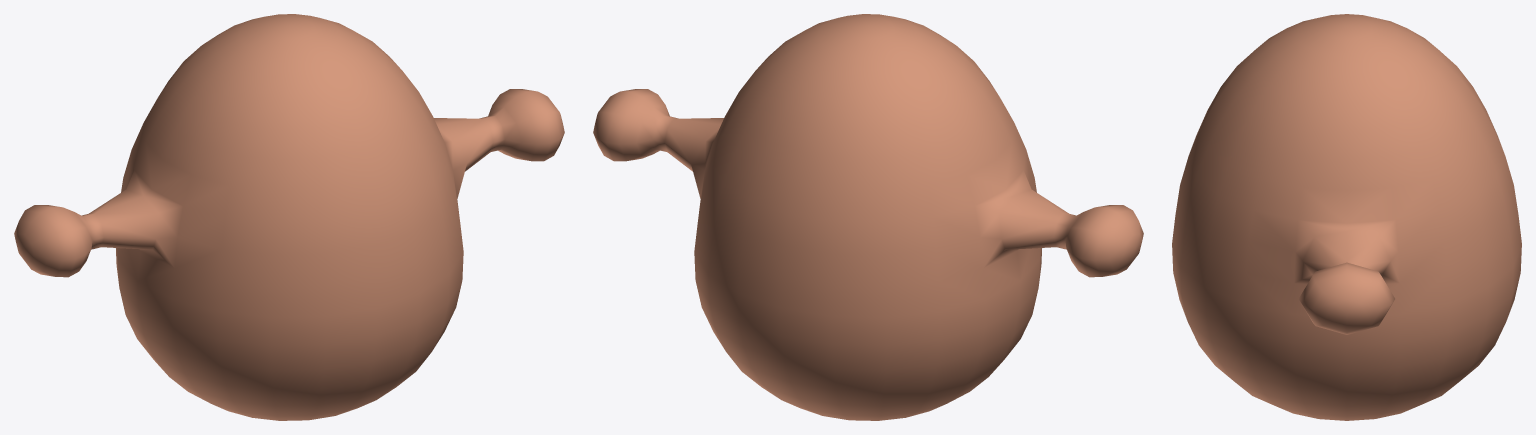
The model's file is AboriginalHead_SizeReference.fbx.
3 views of the same model, side by side, from view 1: azimuth 30°, elevation 25°; view 2: azimuth 150°, elevation 25°; view 3: azimuth 270°, elevation 25° (orthographic).
Parts seen in each view (by area): view 1: polySurface18; view 2: polySurface18; view 3: polySurface18.
Boxes of the visible parts, x1=… form: polySurface18: x1=14, y1=14, x2=564, y2=420; polySurface18: x1=593, y1=14, x2=1143, y2=420; polySurface18: x1=1172, y1=14, x2=1521, y2=420.
Size of the model in its own units: 89.19 by 60.2 by 50.7.
